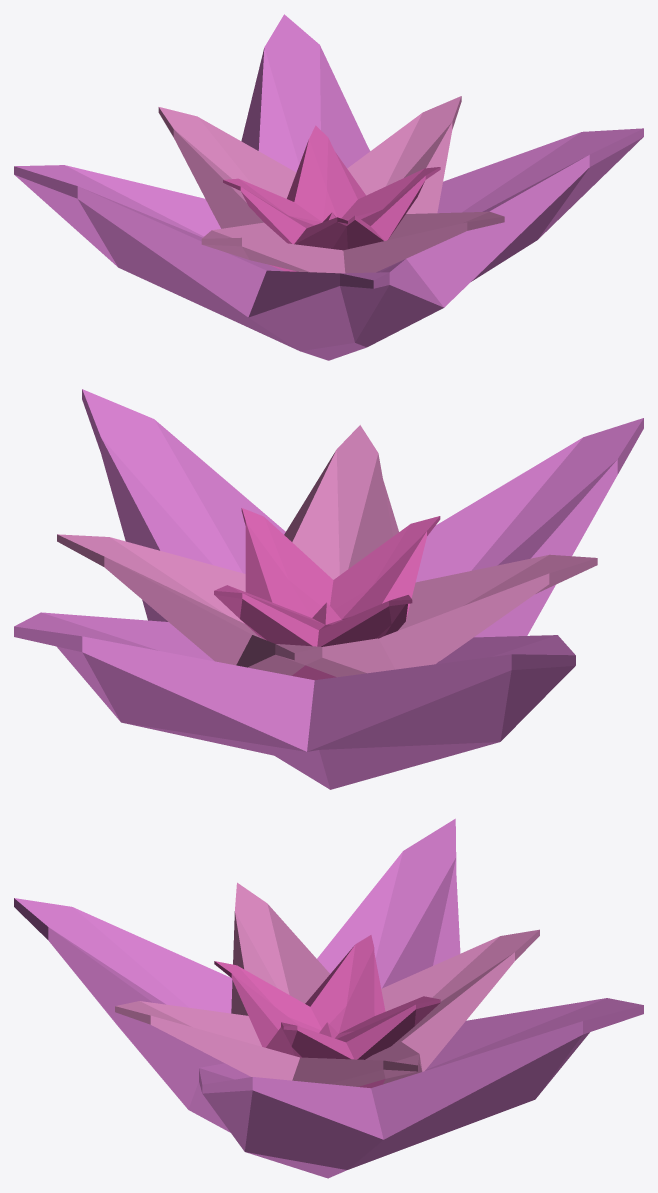
Rendered from lili.fbx.
3 renders of one model, top to bottom at view 1: azimuth 30°, elevation 25°; view 2: azimuth 150°, elevation 25°; view 3: azimuth 270°, elevation 25°, orthographic. The views are drawn at different scales.
Parts seen in each view (by area): view 1: Cube.007; view 2: Cube.007; view 3: Cube.007.
Part boxes in pixels (x1,y1,x2,y2): Cube.007: (14,14,643,360); Cube.007: (14,389,643,789); Cube.007: (14,818,643,1178).
Size of the model in its own units: 100 by 39.86 by 100.
